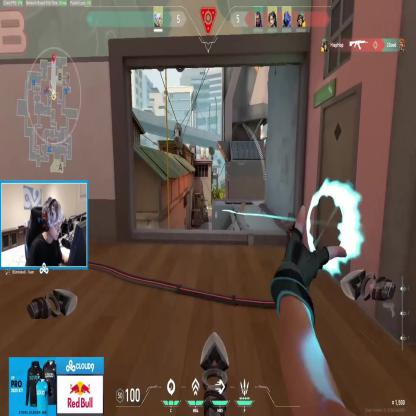enemy: (205, 206, 208, 221)
enemy_head: (206, 207, 208, 210)
